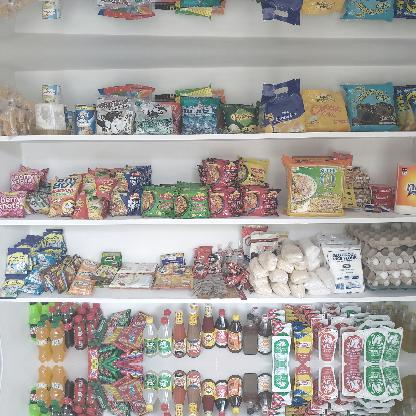Lady-s-Choice: (35, 102, 71, 134)
